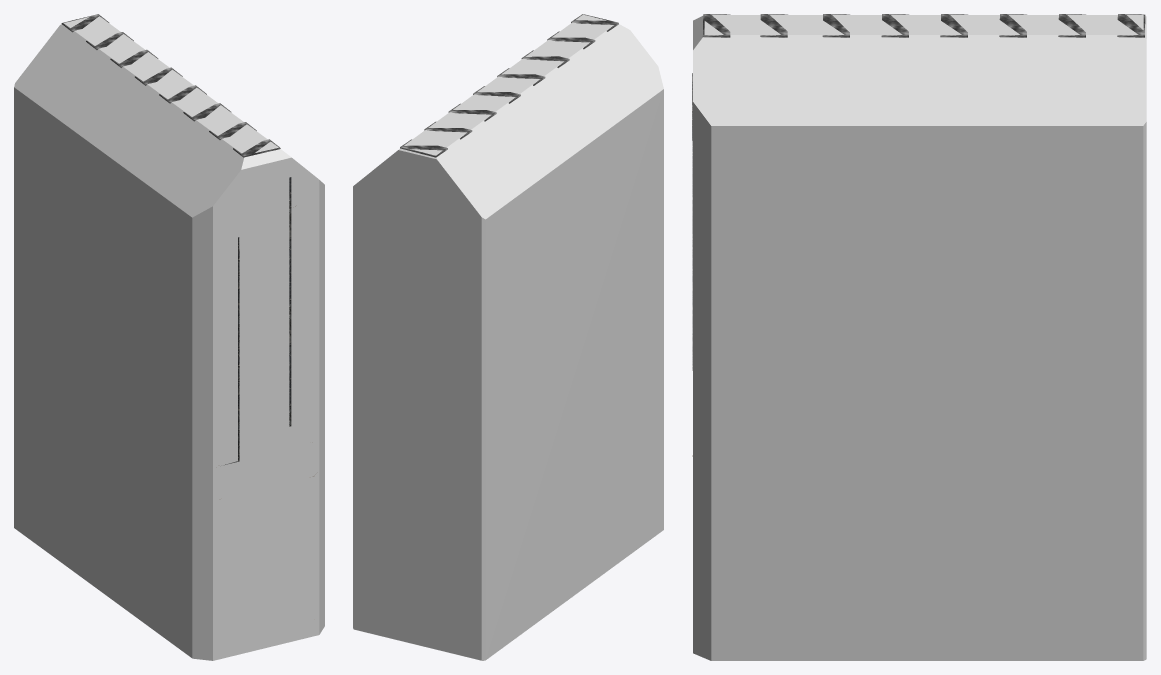
The model's file is SM_wall_02.fbx.
3 renders of one model, left to right at view 1: azimuth 30°, elevation 25°; view 2: azimuth 150°, elevation 25°; view 3: azimuth 270°, elevation 25°, orthographic. The views are drawn at different scales.
Visible parts, largest first — view 1: SM_wall_02_ConvexHulls, SM_wall_02_LOD0; view 2: SM_wall_02_ConvexHulls, SM_wall_02_LOD0; view 3: SM_wall_02_ConvexHulls, SM_wall_02_LOD0.
Boxes of the visible parts, x1,y1,x2,y2 form: SM_wall_02_ConvexHulls: (14, 16, 324, 660); SM_wall_02_LOD0: (61, 14, 313, 476); SM_wall_02_ConvexHulls: (353, 14, 663, 660); SM_wall_02_LOD0: (400, 14, 618, 157); SM_wall_02_ConvexHulls: (693, 15, 1146, 660); SM_wall_02_LOD0: (692, 14, 1145, 456).
Bounding box in the file's own units: 316 × 774 × 1123.
